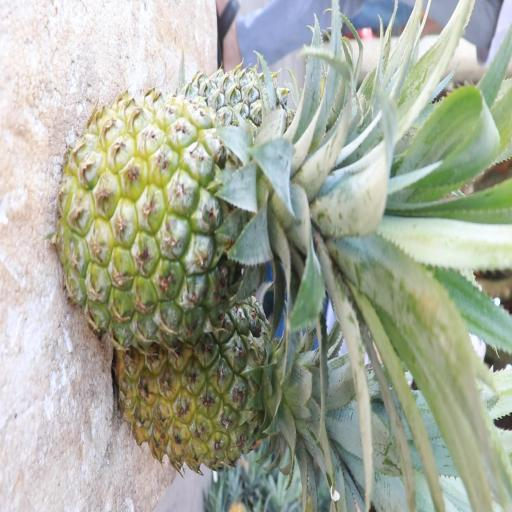------------------------------: (60, 98, 330, 342)
Pineapple - v8 v1: (120, 305, 333, 479)
